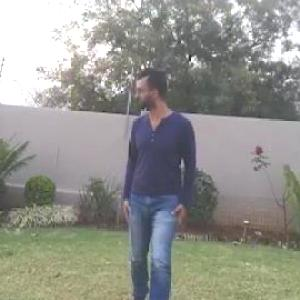follow: (109, 52, 203, 299)
